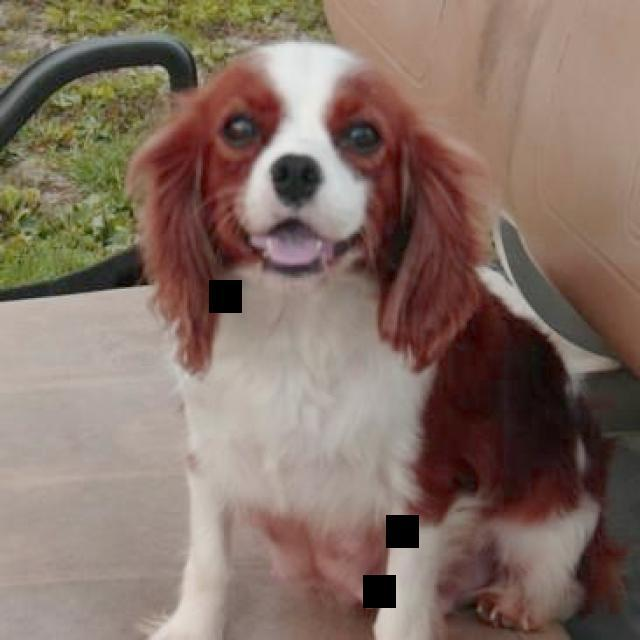adult_dog: (117, 42, 634, 640)
